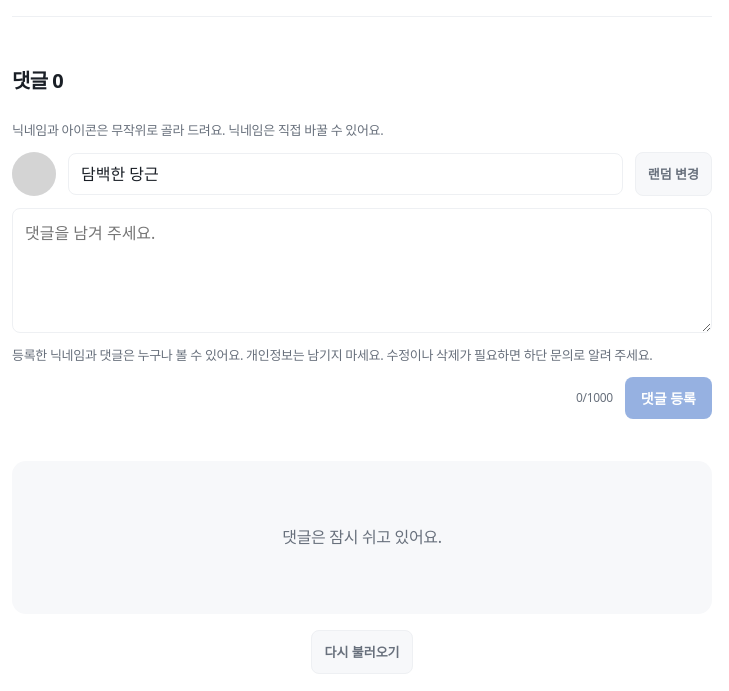
Test: CommentsSection load failure › surfaces one recovery message and recovers through the retry action
Expected: the text "댓글은 잠시 쉬고 있어요." is shown, [12,462,712,614]
Click the button "다시 불러오기" at point(362, 652), box [311,630,412,674]
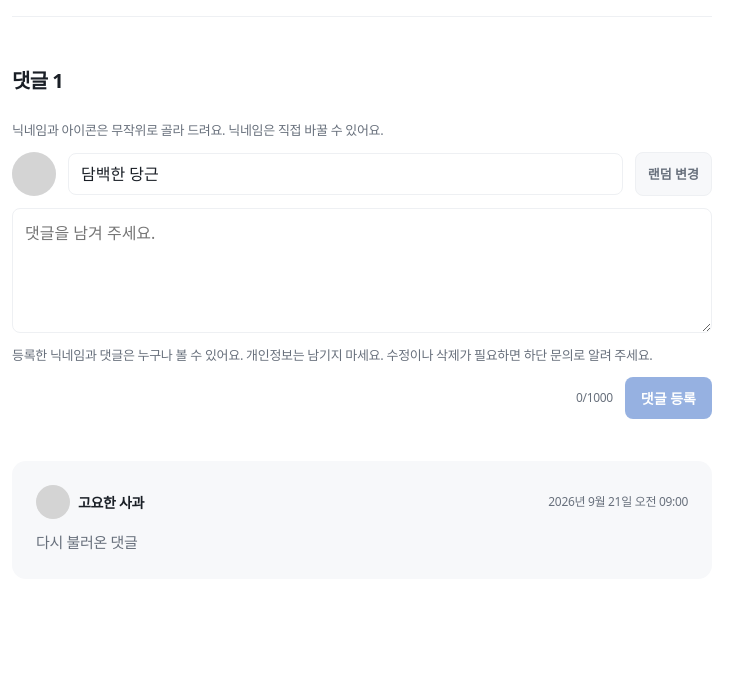
Expected: the text "다시 불러온 댓글" is shown, [36,532,138,552]
Expected: the button "다시 불러오기" is gone
Expected: the text "댓글은 잠시 쉬고 있어요." is gone
